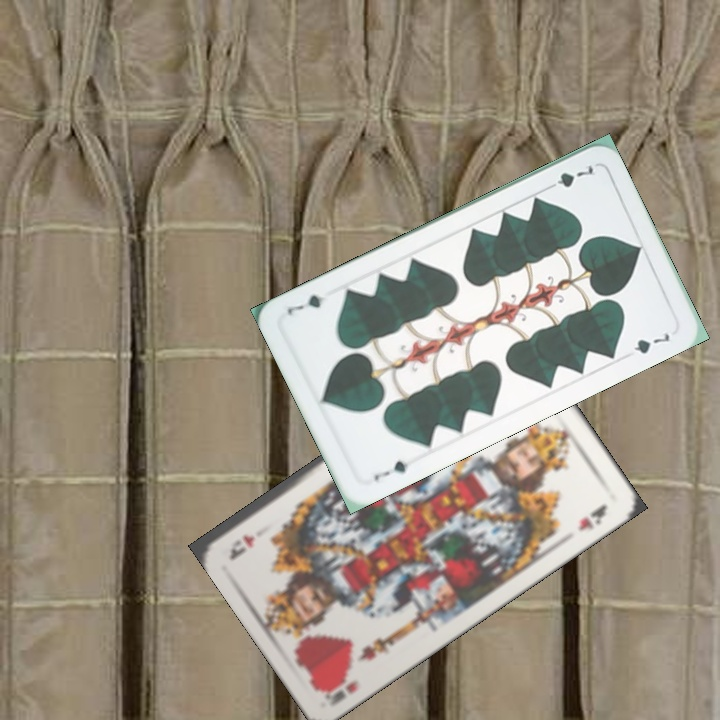G7: (541, 161, 598, 194), (370, 456, 411, 484)
HK: (319, 670, 360, 709)
